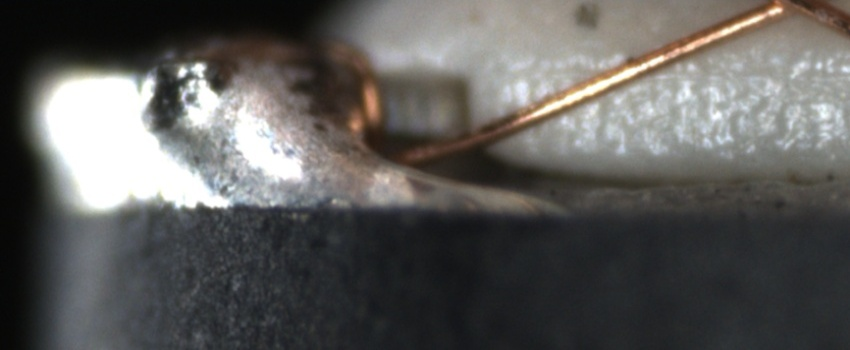CL: (734, 0, 825, 30)
DL: (523, 38, 850, 102)
TE: (317, 25, 391, 151)
